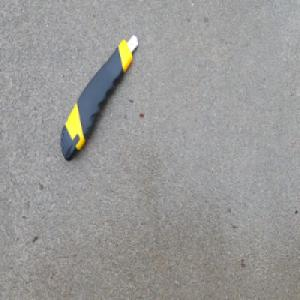Cutter: (60, 32, 140, 162)
